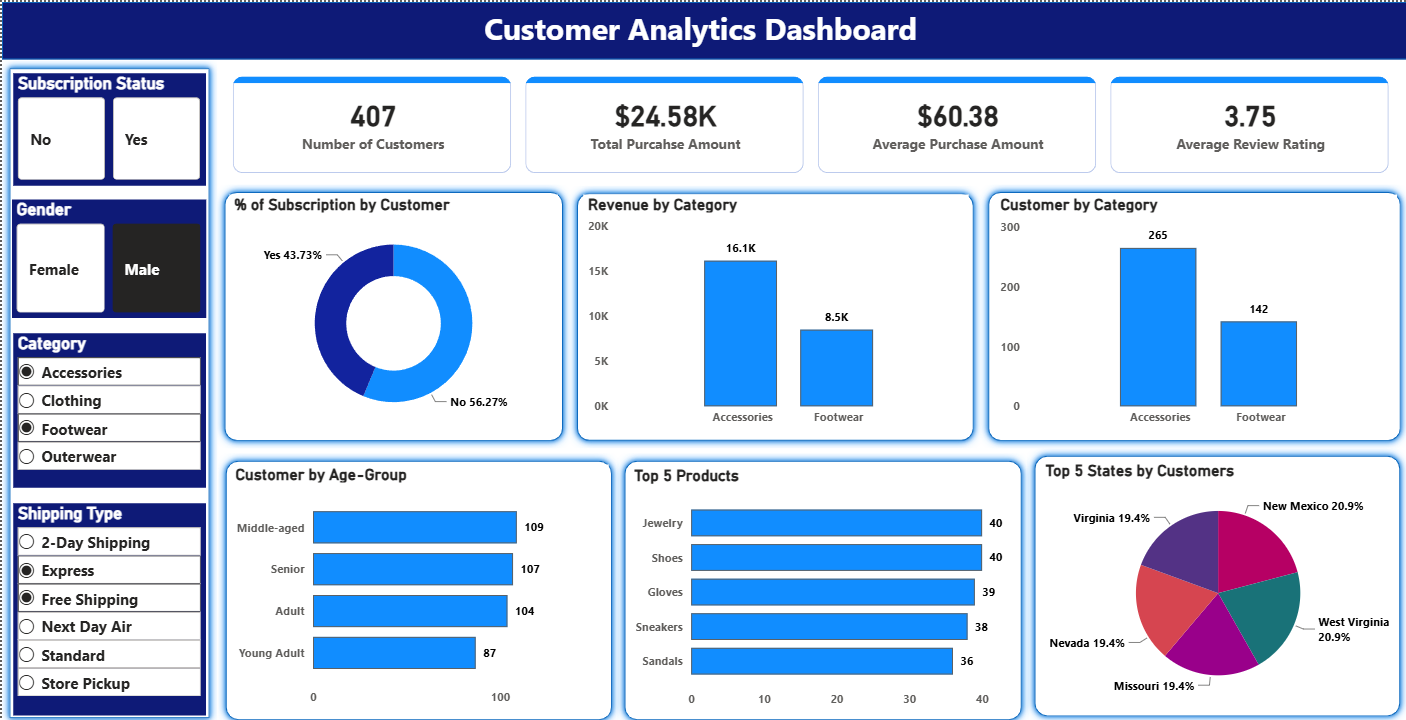

The page's visual inventory and layout, read from the dashboard file:
{"tool":"powerbi","page":{"name":"Customer Analytics Dashboard","canvas":[1500,775],"ordinal":0},"visuals":[{"type":"shape","box":[229.4,194.2,377.1,281.4],"z":0},{"type":"shape","box":[0,63.3,229.4,709.2],"z":1000},{"type":"shape","title":"bnb","box":[656.5,480.9,439.7,292.6],"z":2000},{"type":"shape","box":[1044.1,194.2,455.9,281.4],"z":3000},{"type":"shape","box":[0,0,1499.9,61.3],"z":4000},{"type":"donutChart","title":"% of Subscription by Customer","fields":{"Category":["customer_behavior customer_details.subscription_status"],"Y":["customer_behavior customer_details.Number of Customer"]},"box":[242,205.4,350.4,256.1],"z":5000},{"type":"shape","box":[605.8,195.6,439,280],"z":6000},{"type":"columnChart","title":"Revenue by Category","fields":{"Category":["customer_behavior customer_details.category"],"Y":["Sum(customer_behavior customer_details.purchase_amount)"]},"box":[620.5,205.4,410.9,256.1],"z":7000},{"type":"columnChart","title":"Customer by Category","fields":{"Category":["customer_behavior customer_details.category"],"Y":["CountNonNull(customer_behavior customer_details.customer_id)"]},"box":[1059.6,205.4,427.8,256.1],"z":8000},{"type":"cardVisual","fields":{"Data":["customer_behavior customer_details.Number of Customer","customer_behavior customer_details.Total Purcahse Amount","customer_behavior customer_details.Average Purchase Amount","customer_behavior customer_details.Average Review Rating"]},"box":[229.3,62.7,1270.7,137.3],"z":9000},{"type":"textbox","box":[509.1,1.5,481.8,57.6],"z":10000},{"type":"advancedSlicerVisual","fields":{"Values":["customer_behavior customer_details.subscription_status"]},"box":[12.7,76,205.4,119.6],"z":11000},{"type":"advancedSlicerVisual","title":"Gender","fields":{"Values":["customer_behavior customer_details.gender"]},"box":[11.3,211.1,206.8,126.6],"z":12000},{"type":"listSlicer","title":"Category","fields":{"Values":["customer_behavior customer_details.category"]},"box":[12.7,353.2,205.4,164.6],"z":13000},{"type":"listSlicer","title":"Shipping Type","fields":{"Values":["customer_behavior customer_details.shipping_type"]},"box":[12.7,534.7,205.4,226.5],"z":14000},{"type":"shape","title":"bnb","box":[230.9,480.9,427.9,292.6],"z":15000},{"type":"barChart","title":"Customer by Age-Group","fields":{"Category":["customer_behavior customer_details.age_group"],"Y":["Count(customer_behavior customer_details.customer_id)"]},"box":[243.9,493.9,403,266.7],"z":16000},{"type":"clusteredBarChart","title":"Top 5 Products","fields":{"Category":["customer_behavior customer_details.item_purchased"],"Y":["CountNonNull(customer_behavior customer_details.customer_id)"]},"box":[669.1,494.1,410.3,267.6],"z":17000},{"type":"shape","title":"bnb","box":[1093.9,475.8,406.1,293.9],"z":18000},{"type":"pieChart","title":"Top 5 States by Customers","fields":{"Category":["customer_behavior customer_details.location"],"Y":["CountNonNull(customer_behavior customer_details.customer_id)"]},"box":[1107.6,489.4,378.8,263.6],"z":19000}]}

Visuals, with their boxes in screenshot pixels (x1, y1, x2, y2), scaled from the page's 1500x775 canvas onto the 1406x720 screenshot:
shape: [x1=215, y1=180, x2=568, y2=442]
shape: [x1=0, y1=59, x2=215, y2=718]
"bnb" shape: [x1=615, y1=447, x2=1028, y2=719]
shape: [x1=979, y1=180, x2=1405, y2=442]
shape: [x1=0, y1=0, x2=1405, y2=57]
"% of Subscription by Customer" donutChart: [x1=227, y1=191, x2=555, y2=429]
shape: [x1=568, y1=182, x2=979, y2=442]
"Revenue by Category" columnChart: [x1=582, y1=191, x2=967, y2=429]
"Customer by Category" columnChart: [x1=993, y1=191, x2=1394, y2=429]
cardVisual - customer_behavior customer_details.Number of Customer x customer_behavior customer_details.Total Purcahse Amount: [x1=215, y1=58, x2=1405, y2=186]
textbox: [x1=477, y1=1, x2=929, y2=55]
advancedSlicerVisual - customer_behavior customer_details.subscription_status: [x1=12, y1=71, x2=204, y2=182]
"Gender" advancedSlicerVisual: [x1=11, y1=196, x2=204, y2=314]
"Category" listSlicer: [x1=12, y1=328, x2=204, y2=481]
"Shipping Type" listSlicer: [x1=12, y1=497, x2=204, y2=707]
"bnb" shape: [x1=216, y1=447, x2=618, y2=719]
"Customer by Age-Group" barChart: [x1=229, y1=459, x2=606, y2=707]
"Top 5 Products" clusteredBarChart: [x1=627, y1=459, x2=1012, y2=708]
"bnb" shape: [x1=1025, y1=442, x2=1405, y2=715]
"Top 5 States by Customers" pieChart: [x1=1038, y1=455, x2=1393, y2=700]
